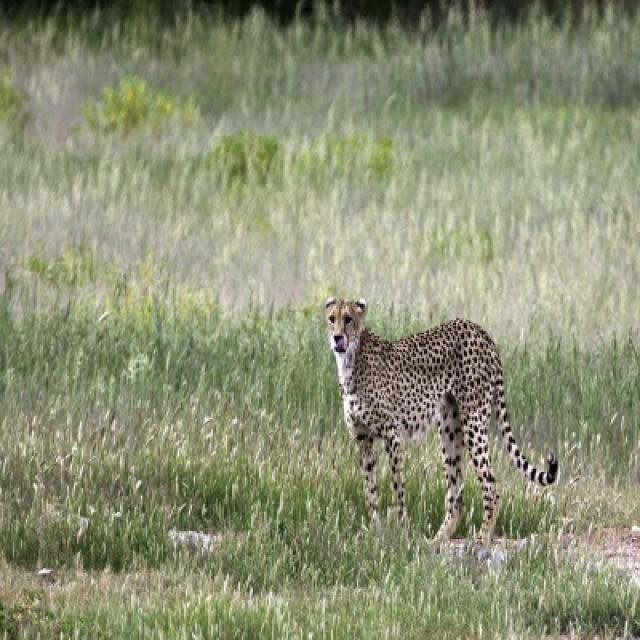Cheetah: (326, 299, 557, 542)
